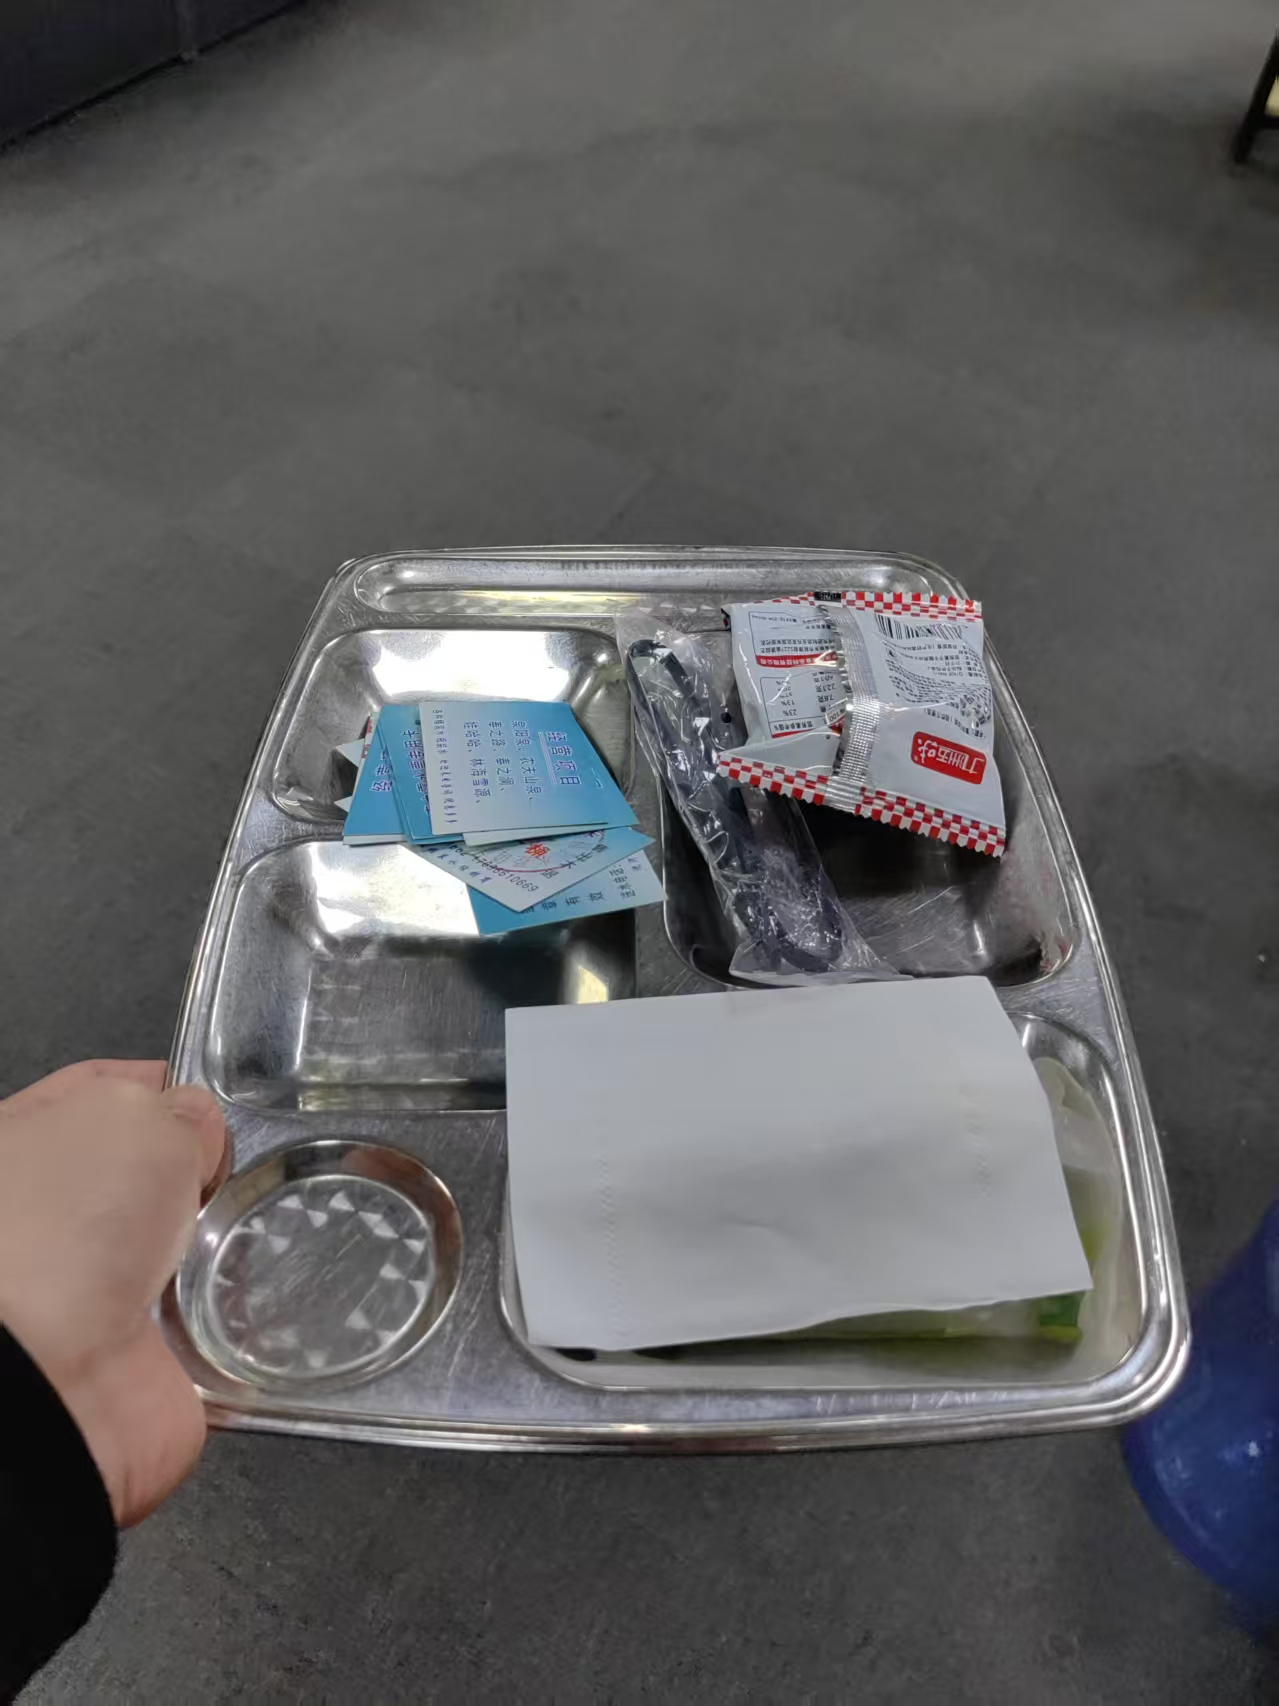moderate: (339, 590, 1028, 993)
plate: (139, 539, 1193, 1464)
tissue: (503, 975, 1100, 1354)
